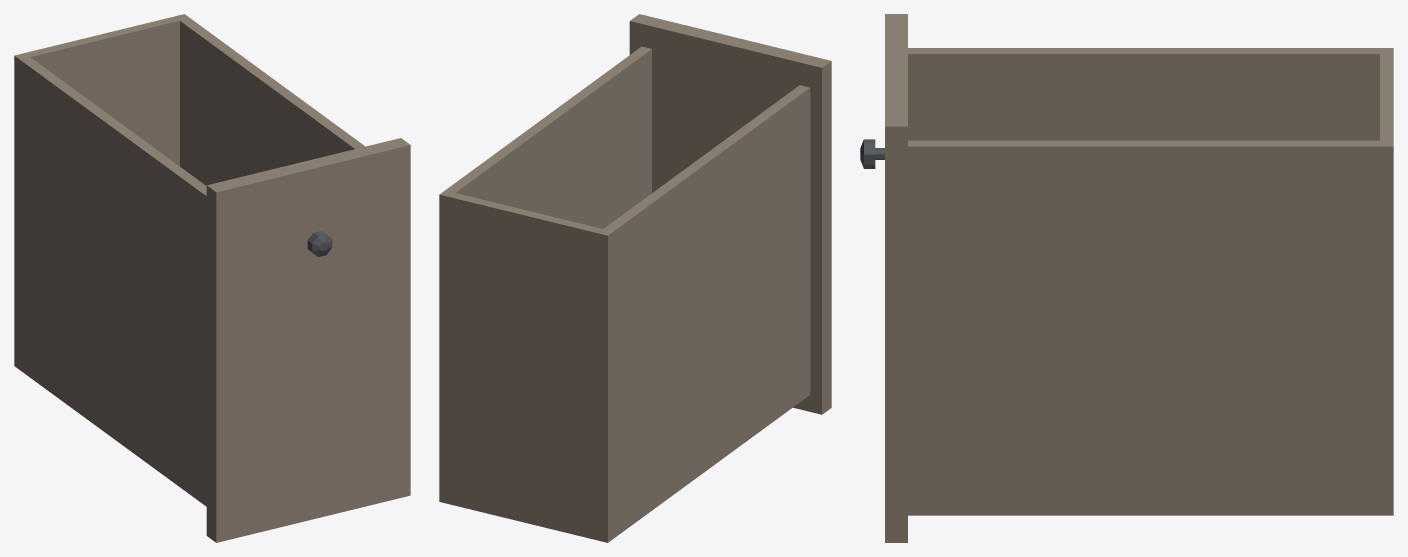
Rendered from Door3_C5_08.fbx.
3 renders of one model, left to right at view 1: azimuth 30°, elevation 25°; view 2: azimuth 150°, elevation 25°; view 3: azimuth 270°, elevation 25°, orthographic. The views are drawn at different scales.
Visible parts, largest first — view 1: Door3_C5_08; view 2: Door3_C5_08; view 3: Door3_C5_08.
Part boxes in pixels (left/top/right/bottom): Door3_C5_08: left=14, top=14, right=410, bottom=542; Door3_C5_08: left=439, top=14, right=831, bottom=542; Door3_C5_08: left=860, top=14, right=1393, bottom=542.
Size of the model in its own units: 29 by 50 by 58.03.
